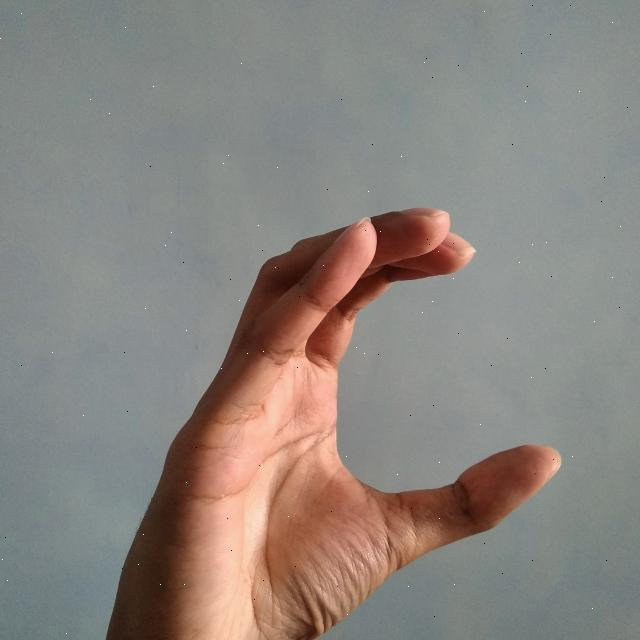C: (102, 202, 566, 640)
